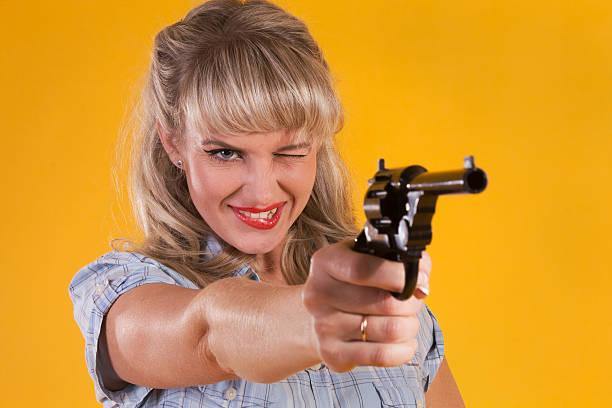weapon: (350, 156, 491, 303)
